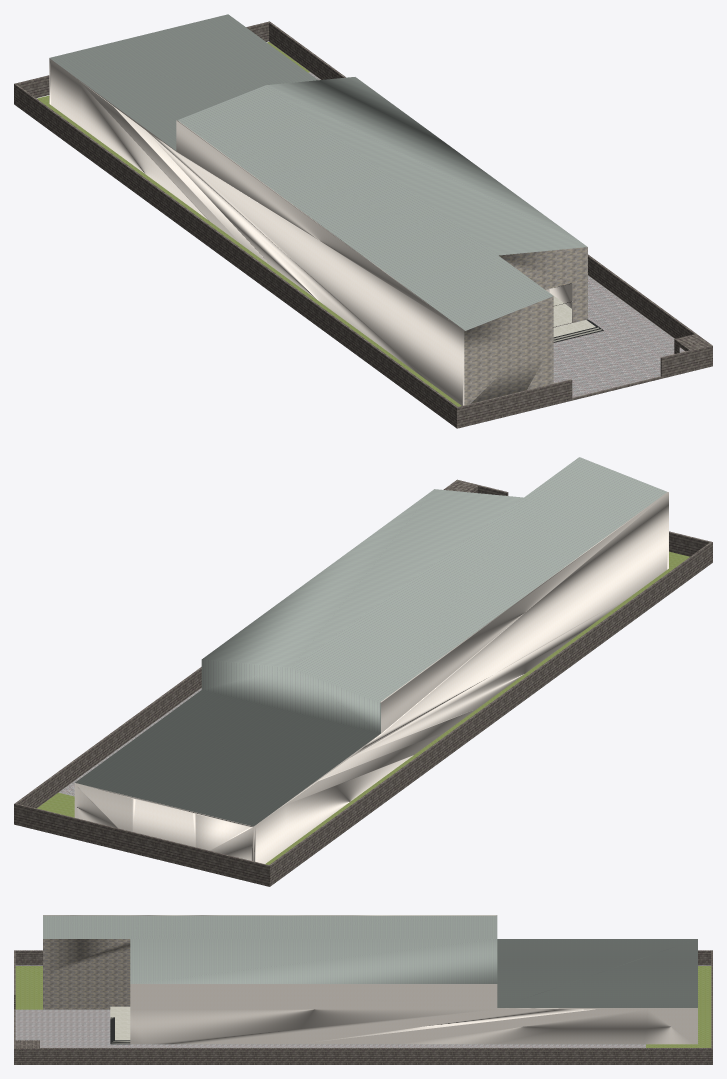
The model's file is Outer-1.glb.
3 views of the same model, one above another, from view 1: azimuth 30°, elevation 25°; view 2: azimuth 150°, elevation 25°; view 3: azimuth 270°, elevation 25° (orthographic). The views are drawn at different scales.
Parts seen in each view (by area): view 1: Group_49_1, Group1, Group44; view 2: Group_49_1, Group1, Group44; view 3: Group_49_1, Group1, Group44, Group8.
Part boxes in pixels (x1,y1,x2,y2): Group_49_1: (49, 14, 587, 405); Group1: (14, 21, 712, 428); Group44: (37, 42, 685, 406); Group_49_1: (74, 457, 668, 863); Group1: (14, 479, 712, 886); Group44: (37, 551, 689, 864); Group_49_1: (43, 915, 697, 1044); Group1: (14, 950, 712, 1064); Group44: (15, 966, 711, 1047); Group8: (110, 1006, 130, 1040).
Bounding box in the file's own units: 100 × 34 × 300.
Materials: 15 (10 with a texture image).
